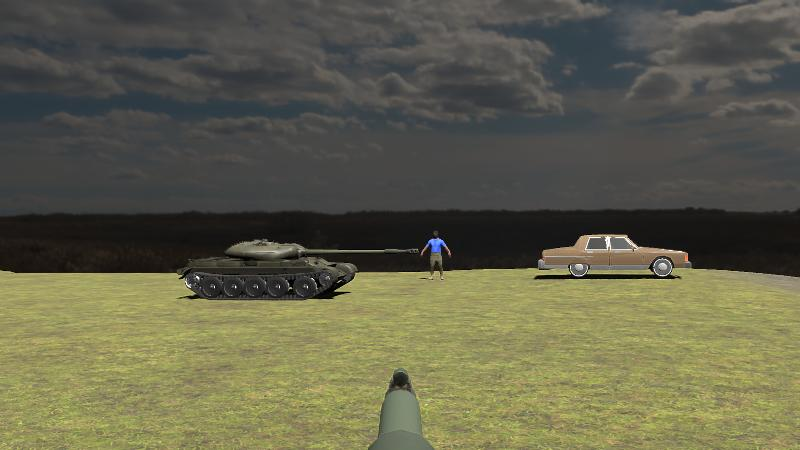Human: (421, 230, 452, 281)
Tank: (176, 236, 419, 301)
car: (537, 233, 691, 279)
